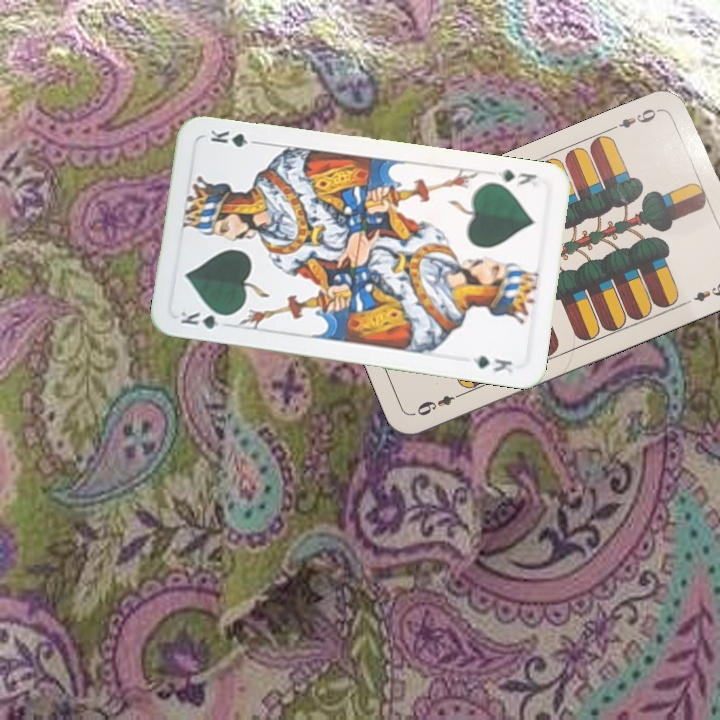E9: (410, 388, 467, 419), (606, 104, 663, 133)
GK: (176, 307, 234, 331), (493, 165, 539, 189)
